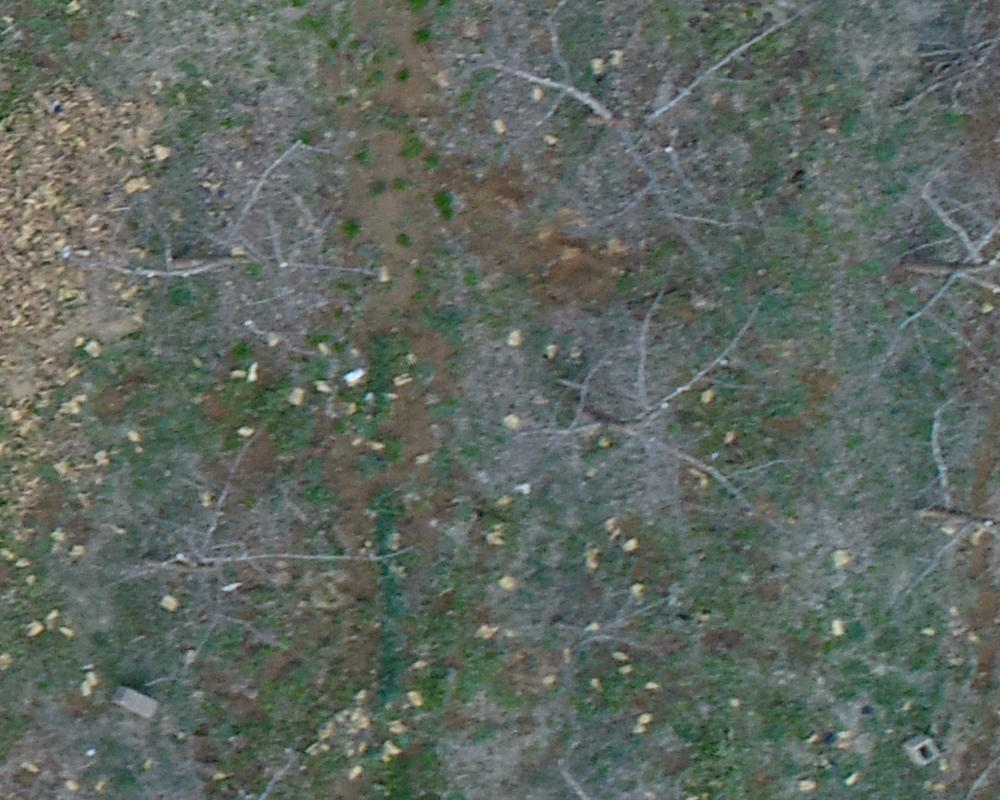apple: (463, 19, 796, 308), (499, 284, 804, 569), (43, 437, 401, 667), (47, 125, 396, 327), (825, 110, 990, 378), (852, 393, 990, 660)
